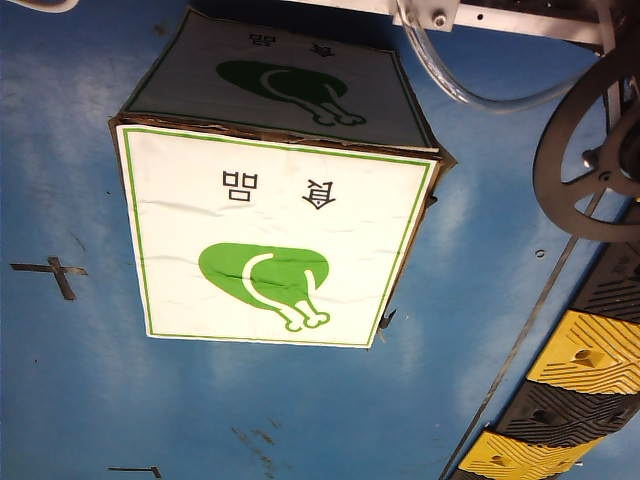Cube_food: (173, 159, 367, 335)
